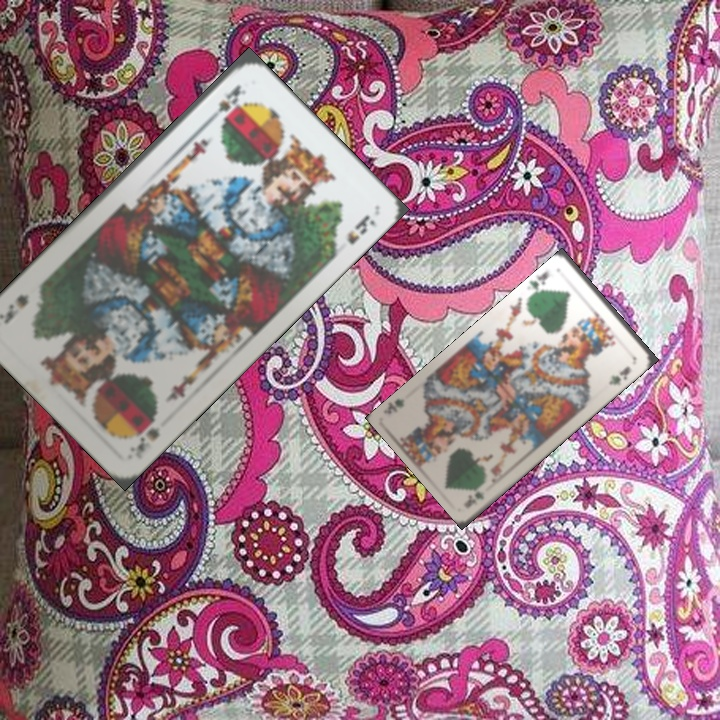GK: (527, 267, 552, 298), (466, 487, 487, 507)
SK: (203, 80, 250, 126), (125, 408, 163, 462)
